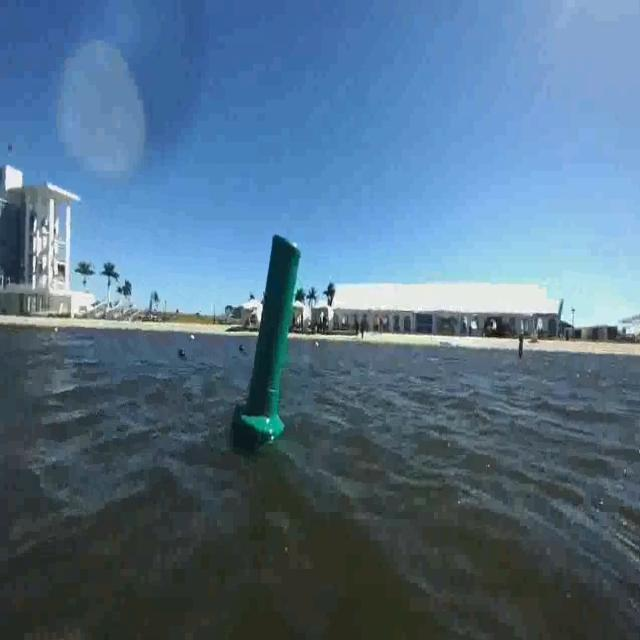green-column-buoy: (236, 232, 304, 443)
